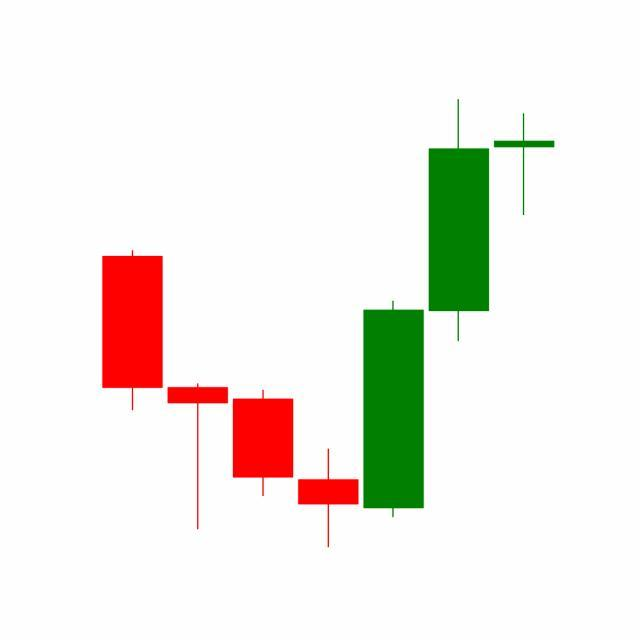Advance Block: (360, 100, 556, 523)
